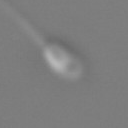normal: (1, 1, 46, 48)
